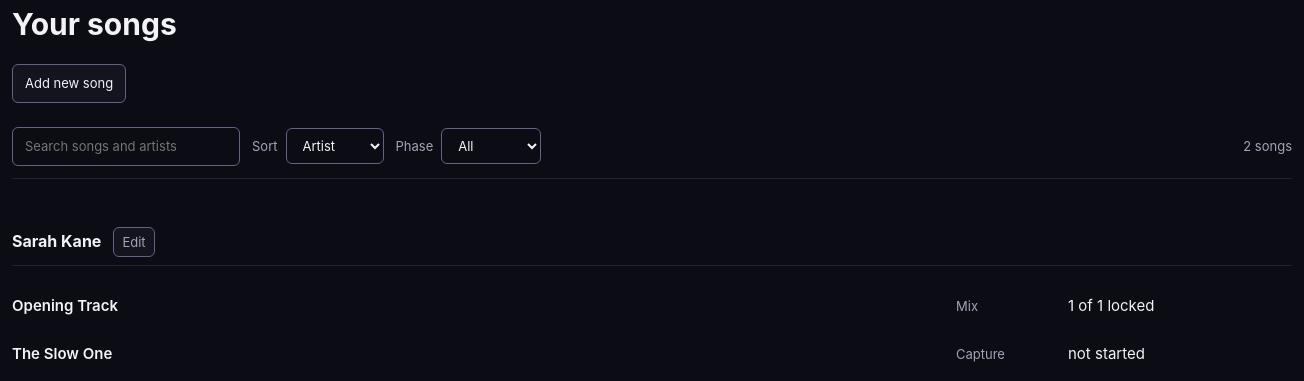
SongsPage › reports a rename the database refused
Expected: the heading "Sarah Kane" is shown, [12,229,101,254]
Click the button with aria-label "Edit Sarah Kane".
click(134, 242)  # box [113,227,155,257]
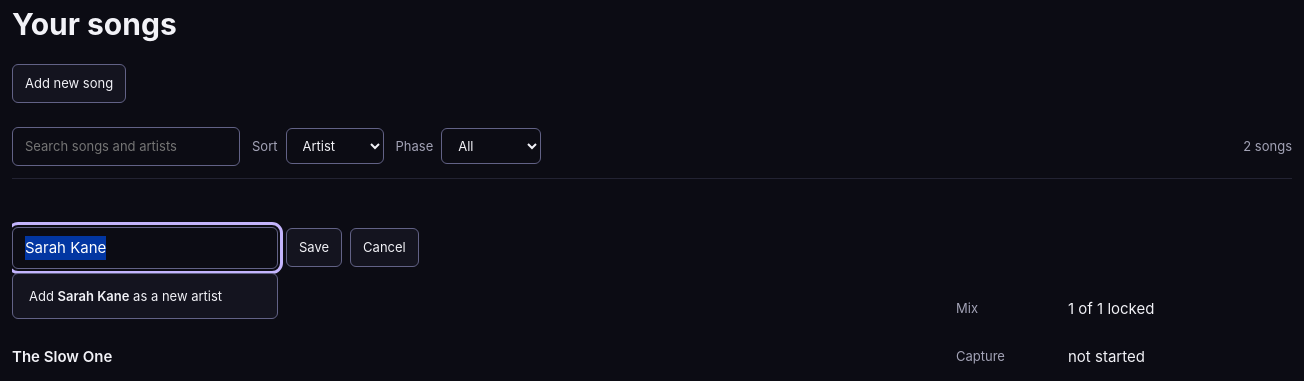
Click the button "Save".
click(314, 248)  # box [286,228,342,267]
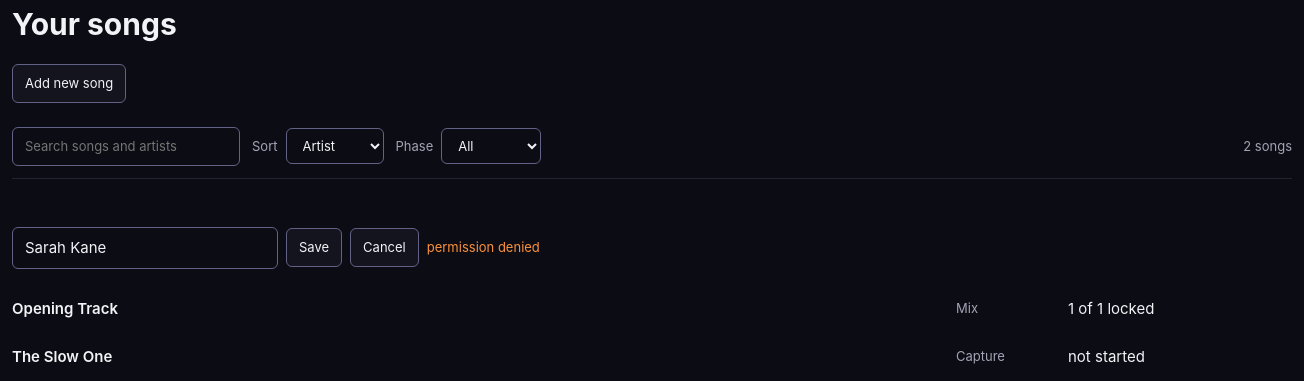
Expected: the dropdown named "Artist name" is shown, [12,227,278,269]
Expected: the message "permission denied" is shown, [427,237,540,258]
